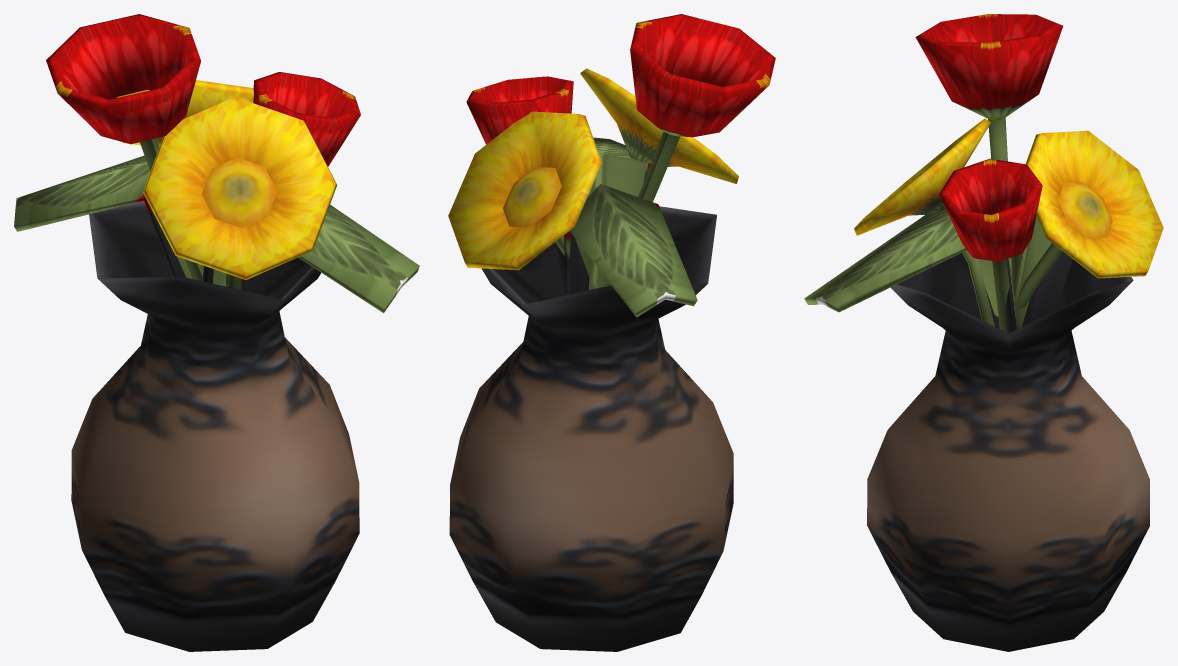
File: AntiqueVase_HD.fbx
3 renders of one model, left to right at view 1: azimuth 30°, elevation 25°; view 2: azimuth 150°, elevation 25°; view 3: azimuth 270°, elevation 25°, orthographic. The views are drawn at different scales.
Parts seen in each view (by area): view 1: AntiqueVase; view 2: AntiqueVase; view 3: AntiqueVase.
Part boxes in pixels (x1=…): AntiqueVase: x1=14, y1=14, x2=419, y2=651; AntiqueVase: x1=448, y1=14, x2=775, y2=651; AntiqueVase: x1=804, y1=14, x2=1163, y2=651.
Bounding box in the file's own units: 0.4121 × 0.7795 × 0.4621.
